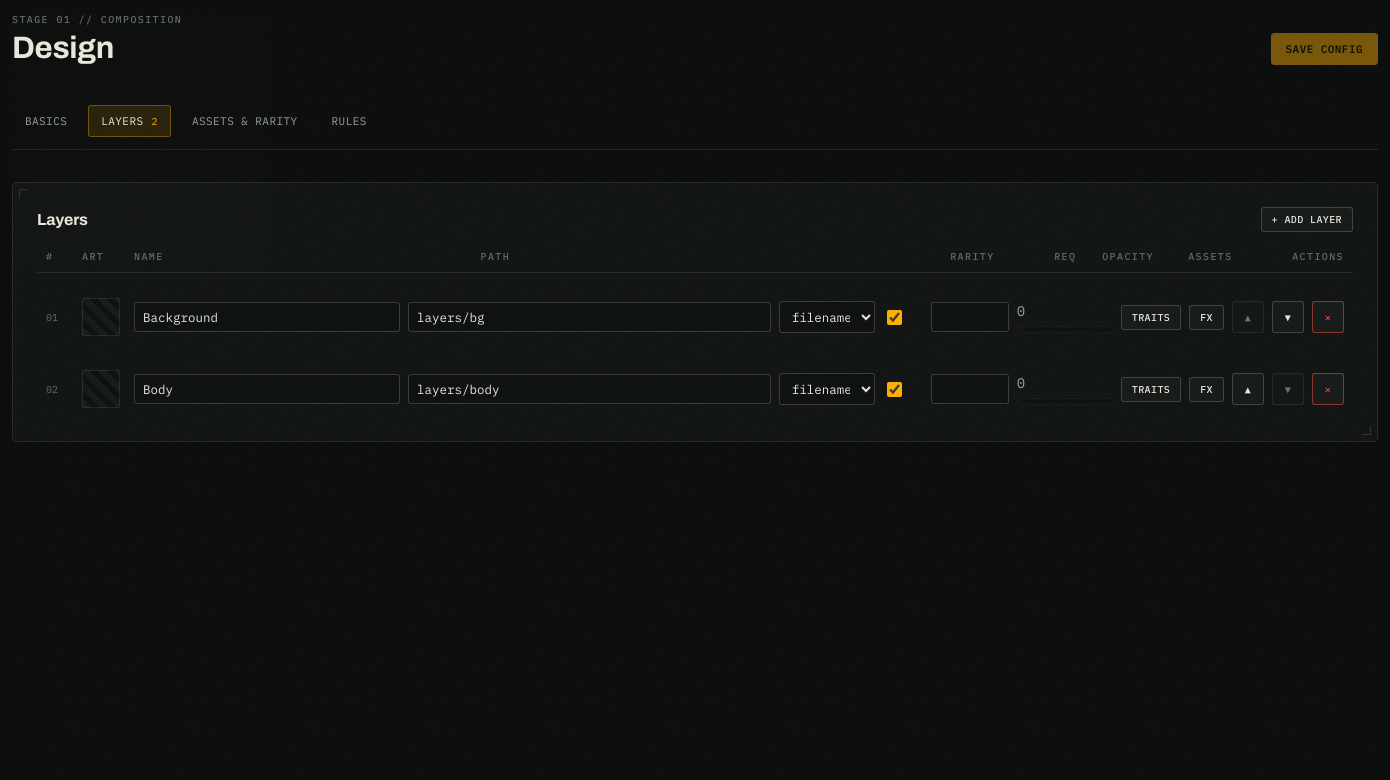
it: DesignScreen › loads config and shows basics + layers
The width and height of the screenshot is (1390, 780).
expect the field named "Layer 1 name" is shown: met, box x1=134 y1=302 x2=400 y2=332
expect the field showing "layers/body" is shown: met, box x1=408 y1=374 x2=771 y2=404
Basics lives behind its own tab.
Click the tab "Basics" at (46, 121), box x1=12 y1=105 x2=80 y2=137
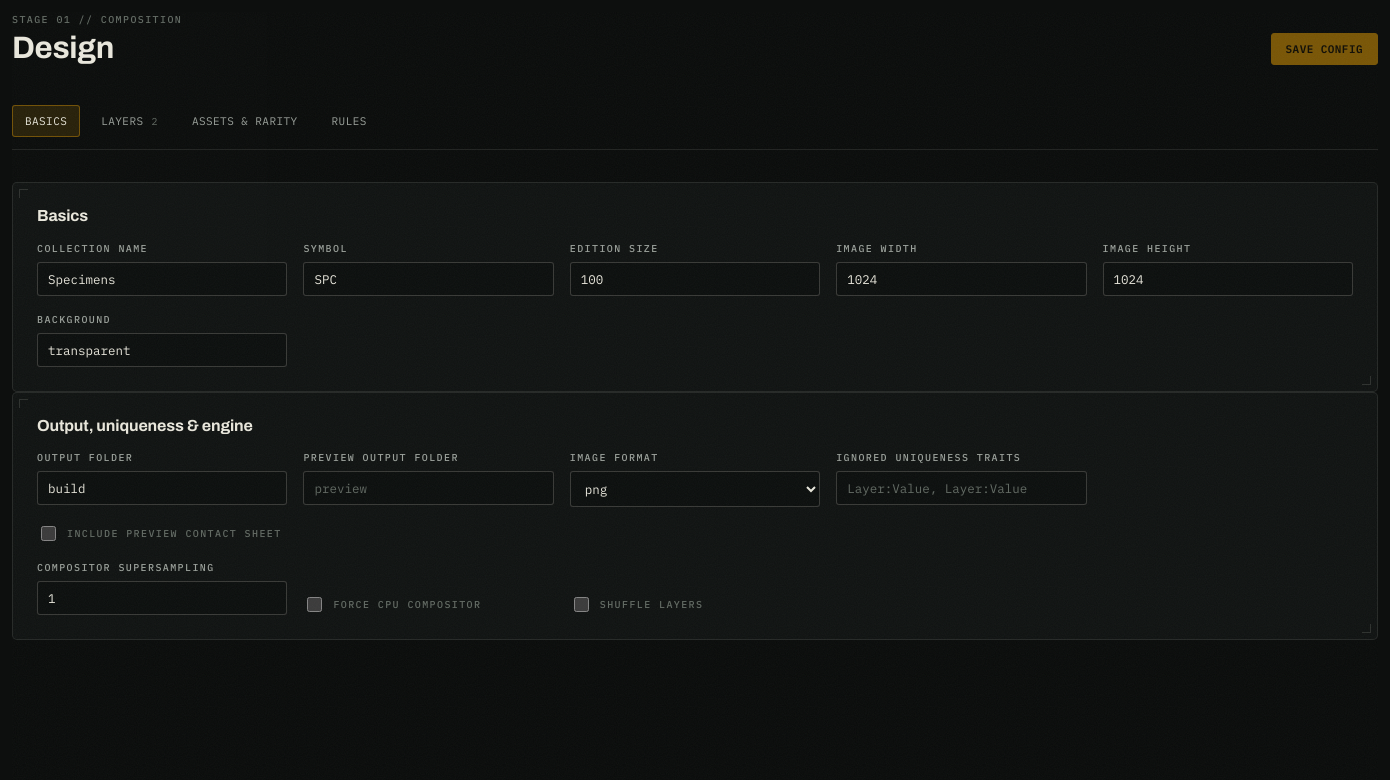
expect the field showing "Specimens" is shown: met, box x1=37 y1=262 x2=287 y2=296
